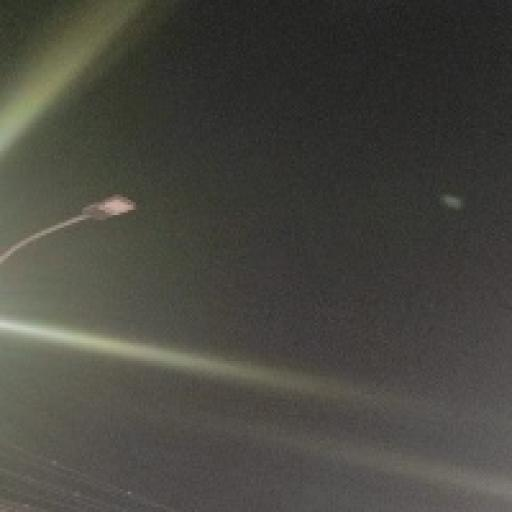Not Working: (67, 190, 138, 232)
